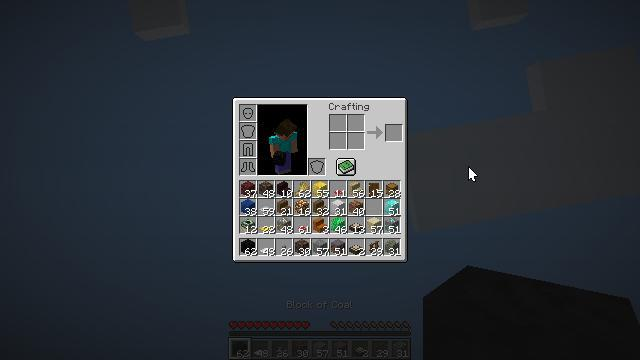cursor: (468, 166, 478, 182)
